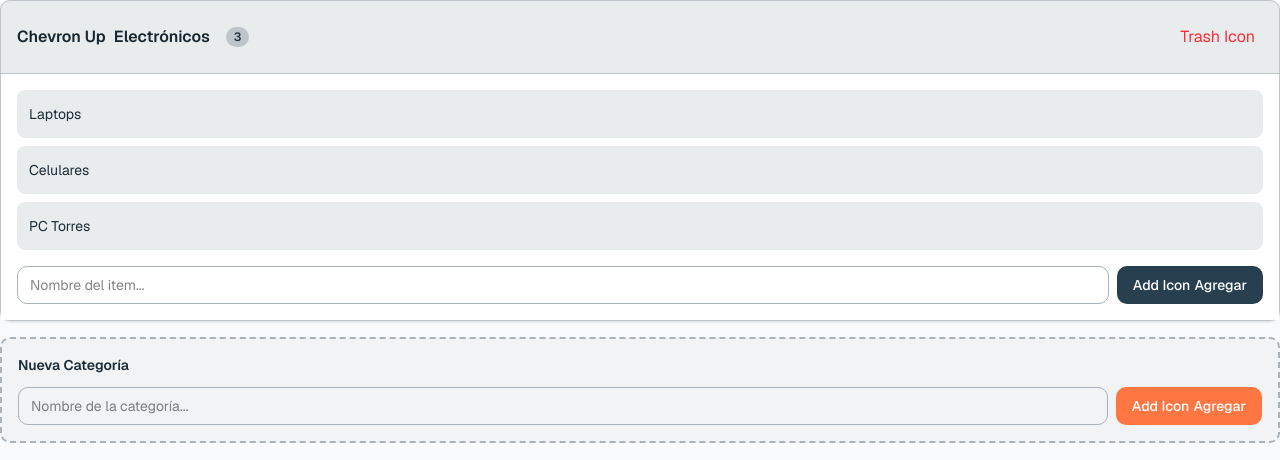
Scenario: CategoryManager Component › Category Management › should delete a category
Click the button with aria-label "Eliminar categoría" at (1218, 37), box [1172, 17, 1263, 57]
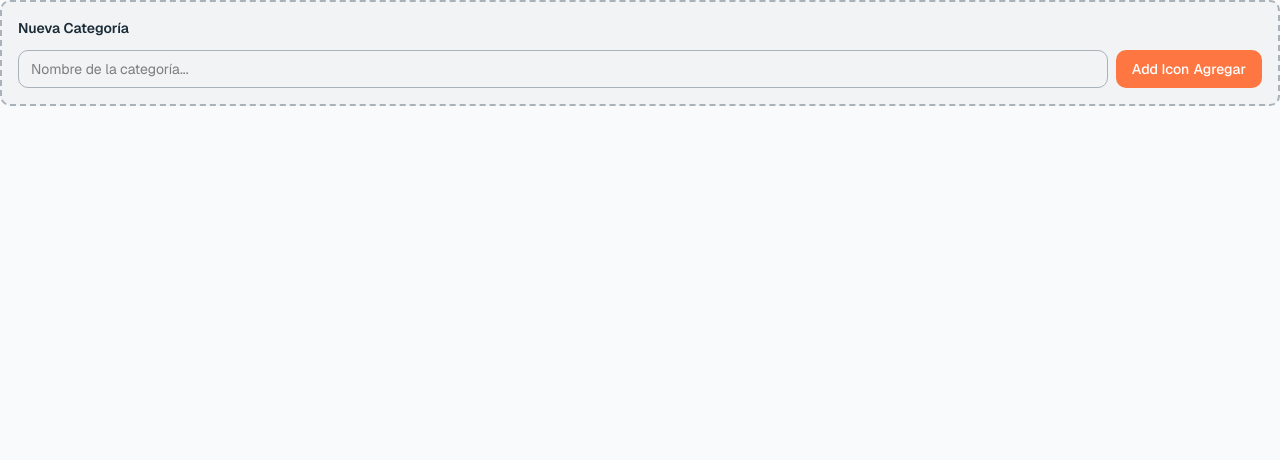
Expected: the button "Electrónicos" is gone
